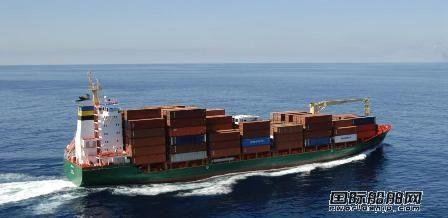Cargoship: (56, 69, 391, 193)
